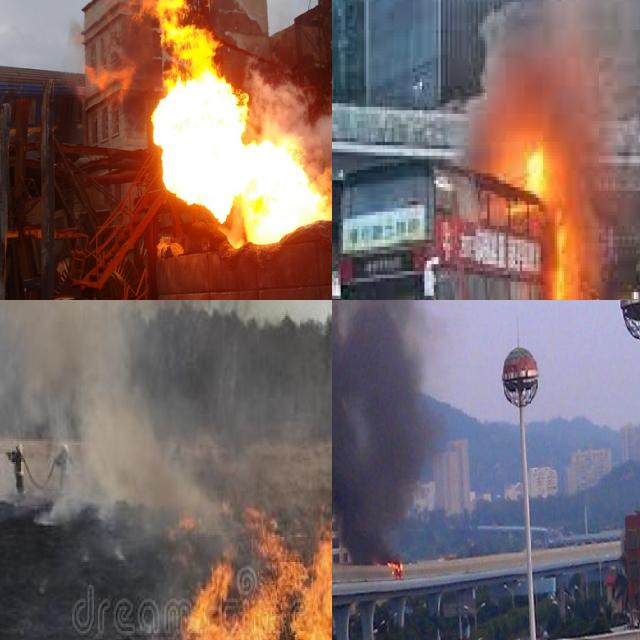fire: (139, 0, 332, 251), (9, 506, 332, 640), (503, 138, 594, 300), (372, 549, 405, 583)
smoke: (0, 300, 216, 523), (332, 300, 457, 559), (461, 0, 640, 170), (245, 67, 332, 177)
